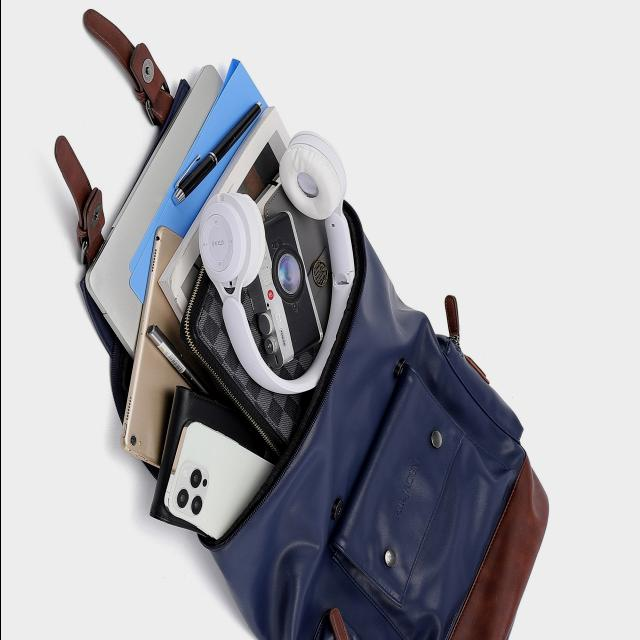backpack: (47, 1, 557, 640)
